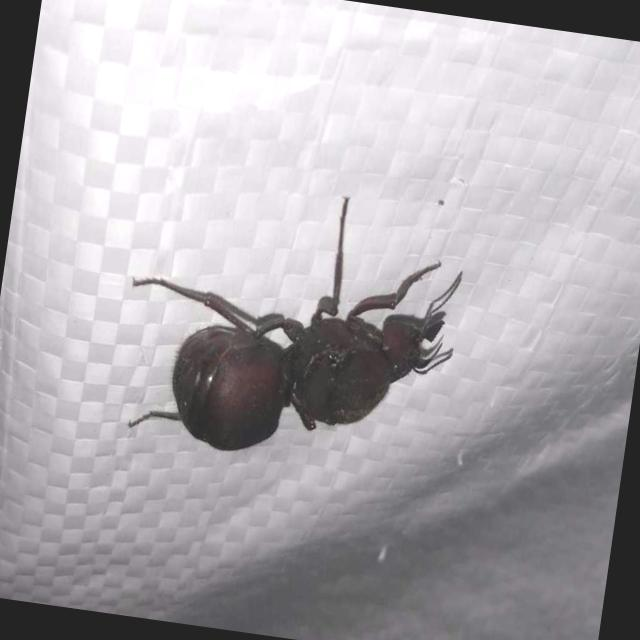Alive-Female-Dealate: (110, 169, 480, 482)
